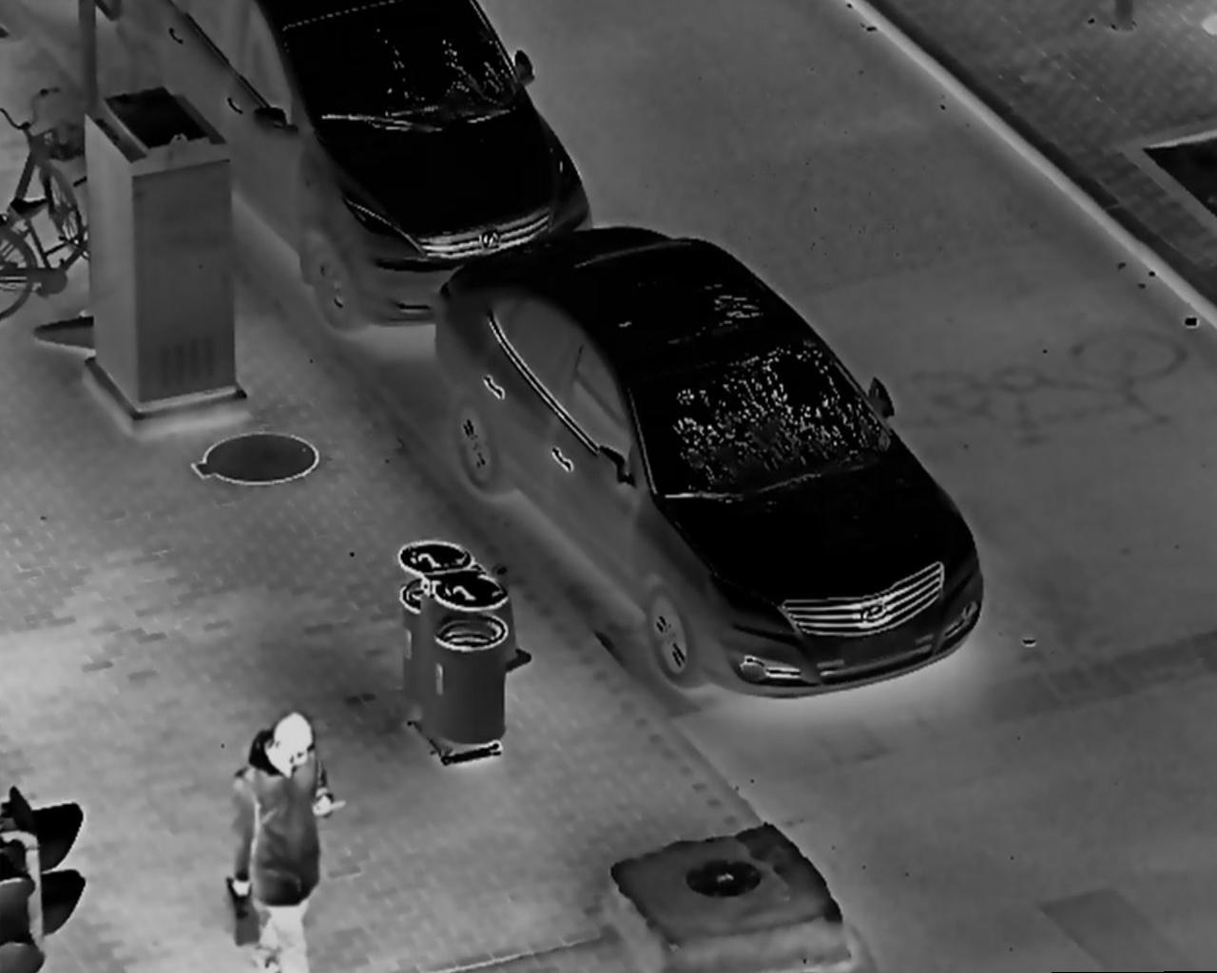person: (216, 704, 346, 973)
